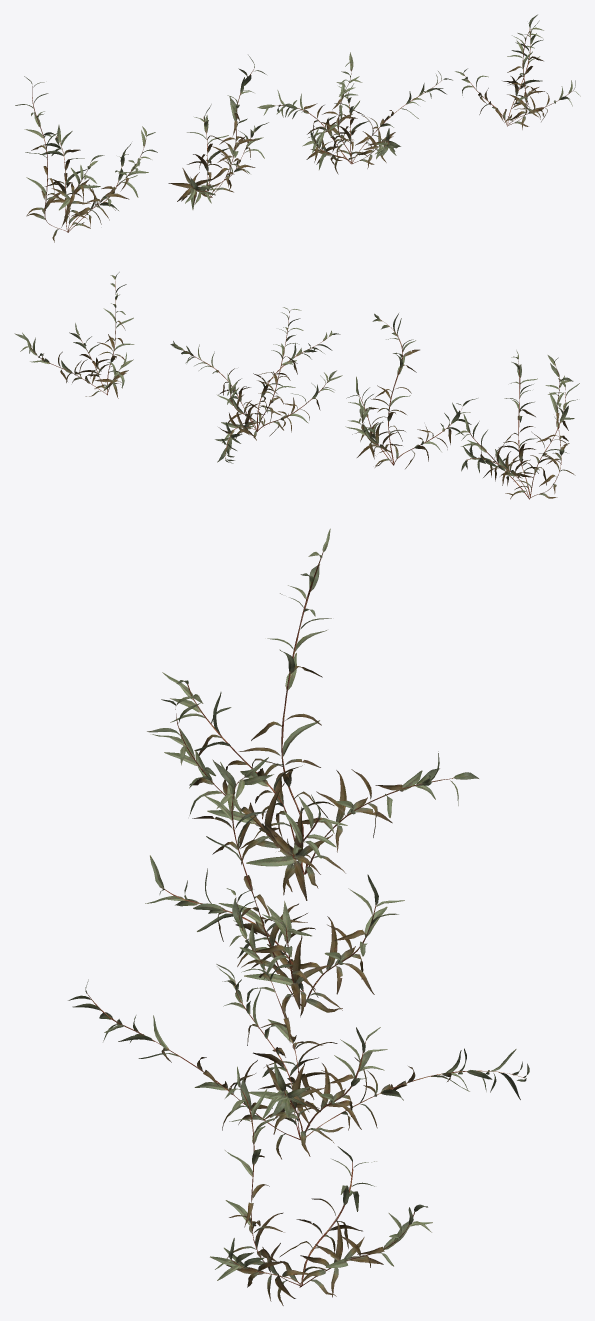
File: shrub_02_1k_md.glb
The picture shows the model from 3 angles, top to bottom: view 1: azimuth 30°, elevation 25°; view 2: azimuth 150°, elevation 25°; view 3: azimuth 270°, elevation 25°; orthographic projection. The views are drawn at different scales.
Visible parts, largest first — view 1: shrub_02_c, shrub_02_a, shrub_02_b, shrub_02_d; view 2: shrub_02_a, shrub_02_c, shrub_02_b, shrub_02_d; view 3: shrub_02_a, shrub_02_c, shrub_02_b, shrub_02_d.
Part boxes in pixels (x1,y1,x2,y2): shrub_02_c: [257, 52, 452, 174]; shrub_02_a: [15, 76, 157, 242]; shrub_02_b: [168, 55, 268, 209]; shrub_02_d: [455, 14, 580, 129]; shrub_02_a: [455, 350, 579, 499]; shrub_02_c: [170, 307, 342, 463]; shrub_02_b: [345, 313, 477, 468]; shrub_02_d: [14, 272, 134, 398]; shrub_02_a: [147, 528, 478, 900]; shrub_02_c: [68, 888, 529, 1159]; shrub_02_b: [145, 757, 404, 1018]; shrub_02_d: [210, 1066, 432, 1305].
Size of the model in its own units: 6.05 by 1.7 by 2.29.
Materials: 1 (1 with a texture image).
